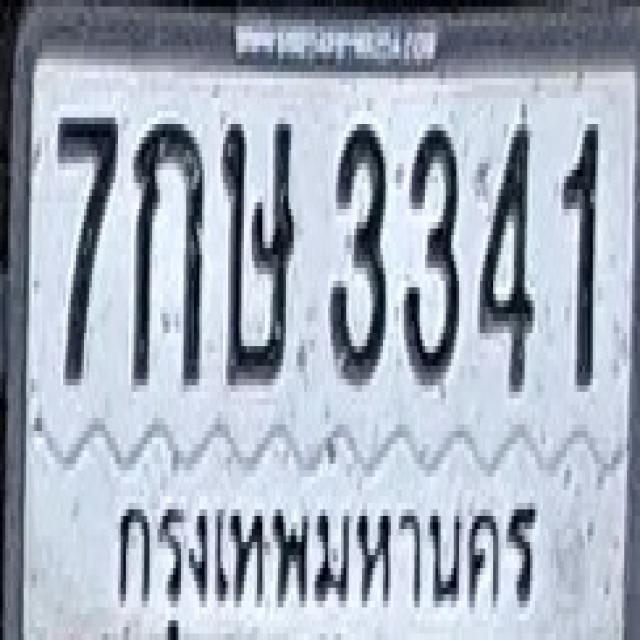-: (222, 117, 295, 386), (131, 117, 202, 386)
1: (561, 120, 598, 388)
3: (329, 117, 387, 386), (404, 121, 459, 382)
4: (478, 117, 532, 392)
7: (56, 108, 117, 382)
BKK: (95, 448, 549, 640)
